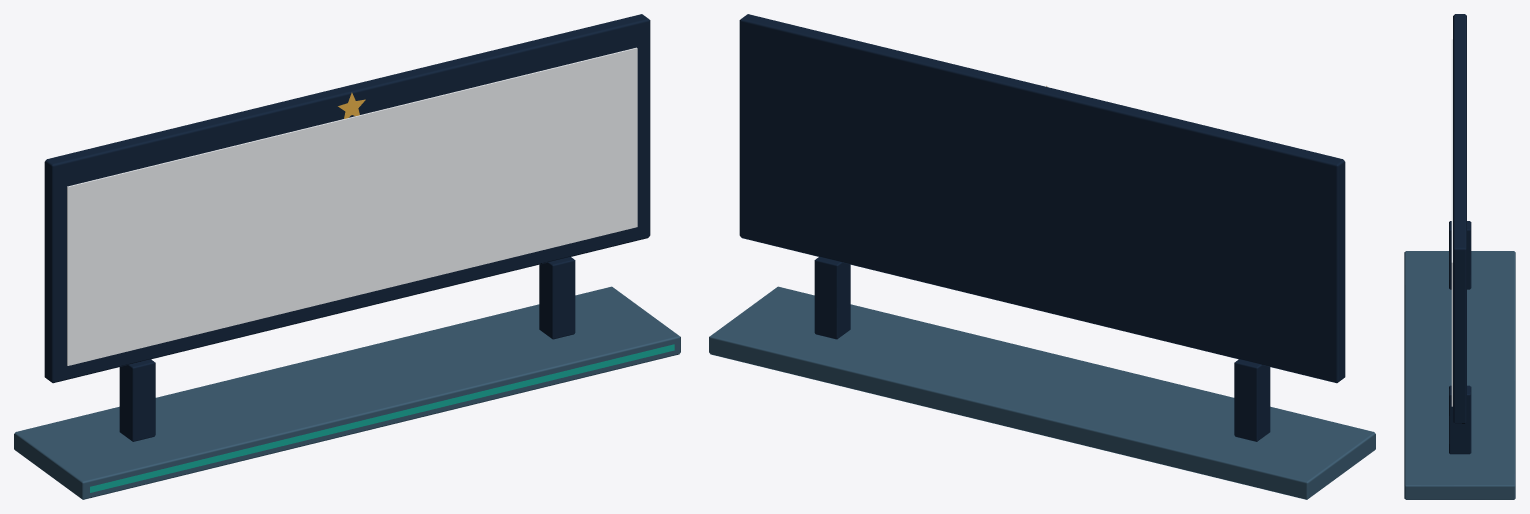
File: CM_Prop_LeaderboardStage.fbx
3 views of the same model, side by side, from view 1: azimuth 30°, elevation 25°; view 2: azimuth 150°, elevation 25°; view 3: azimuth 270°, elevation 25° (orthographic). The views are drawn at different scales.
Parts seen in each view (by area): view 1: Face, Body, Board; view 2: Board, Body; view 3: Body, Board, Face.
Boxes of the visible parts, x1,y1,x2,y2 form: Face: [67, 47, 637, 365]; Body: [14, 257, 680, 499]; Board: [44, 14, 650, 383]; Board: [739, 14, 1345, 383]; Body: [709, 257, 1375, 499]; Body: [1404, 221, 1515, 499]; Board: [1453, 14, 1466, 423]; Face: [1451, 39, 1452, 406].
Size of the model in its own units: 40 by 8.01 by 20.
Materials: 1 (1 with a texture image).
